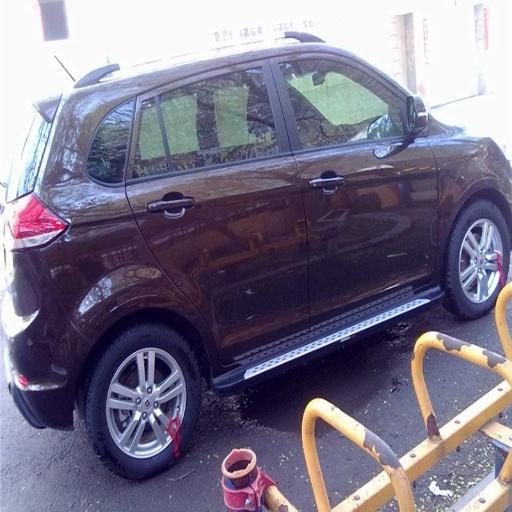back_bumper: (3, 241, 94, 391)
back_right_door: (129, 49, 309, 364)
